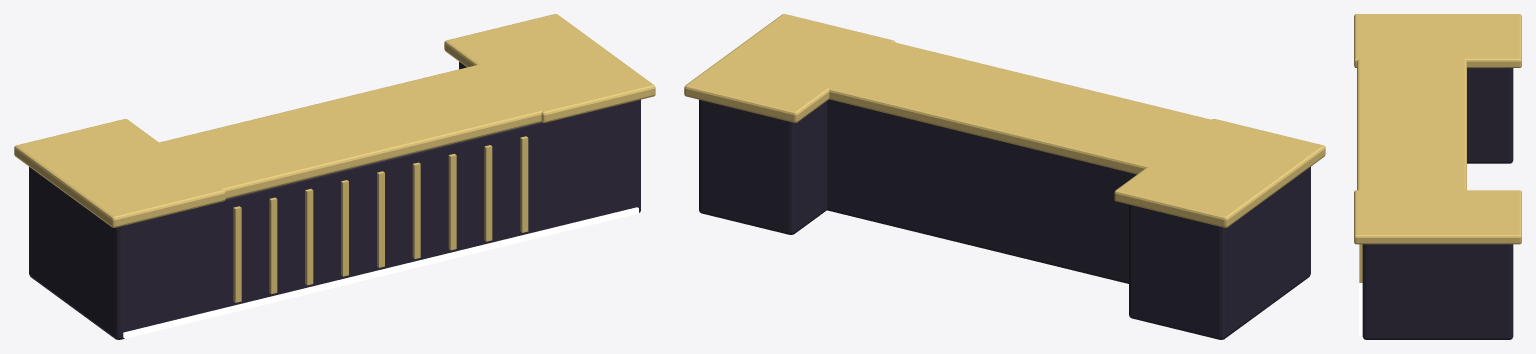
File: DecoDesk.fbx
The picture shows the model from 3 angles, left to right: view 1: azimuth 30°, elevation 25°; view 2: azimuth 150°, elevation 25°; view 3: azimuth 270°, elevation 25°; orthographic projection. The views are drawn at different scales.
Parts seen in each view (by area): view 1: DecoDesk; view 2: DecoDesk; view 3: DecoDesk.
Part boxes in pixels (left/top/right/bottom): DecoDesk: left=14, top=14, right=655, bottom=339; DecoDesk: left=684, top=14, right=1325, bottom=339; DecoDesk: left=1354, top=14, right=1521, bottom=339.
Bounding box in the file's own units: 9.1 × 2.08 × 2.9.
